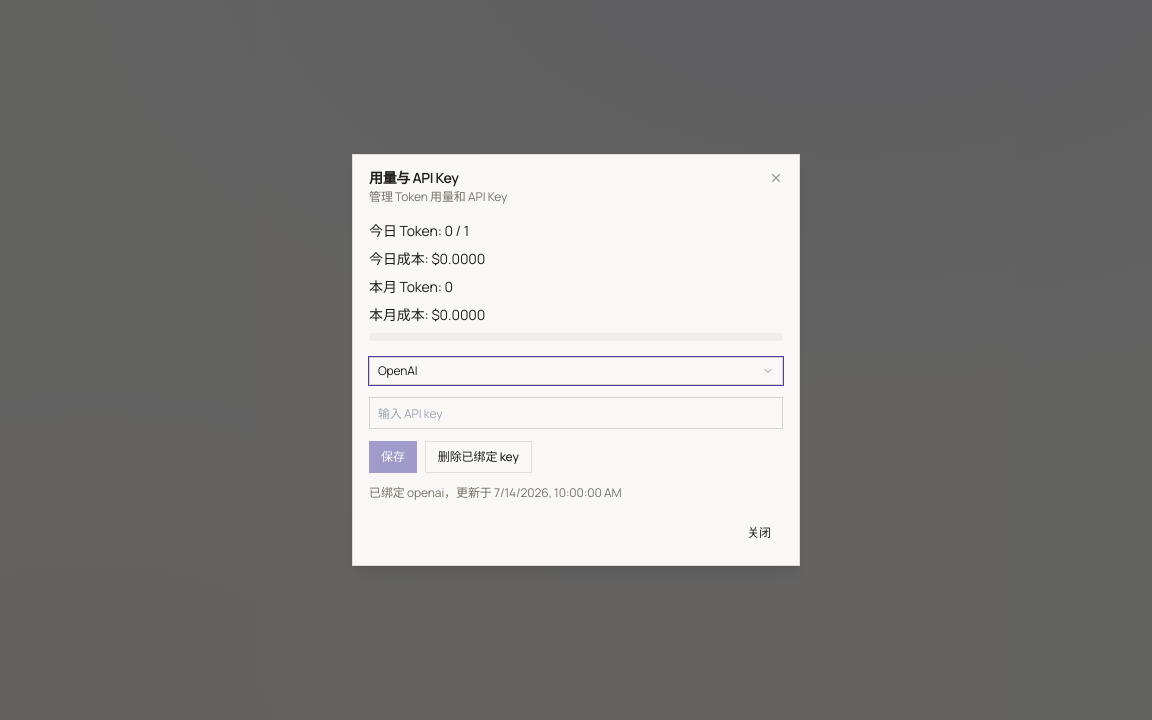
Test: UsageDialog › deletes an API key
The width and height of the screenshot is (1152, 720).
Step 1. Click the button "删除已绑定 key" → (478, 457), box [425,441,532,473]
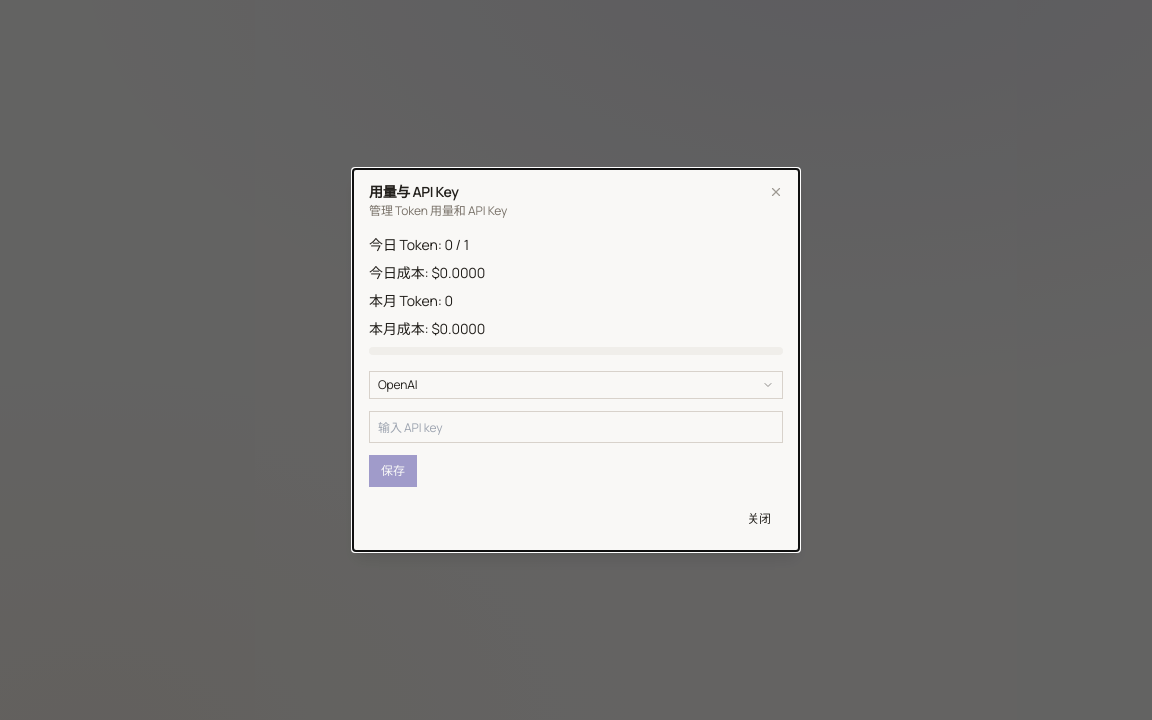
Expected: the button "已绑定" is gone
